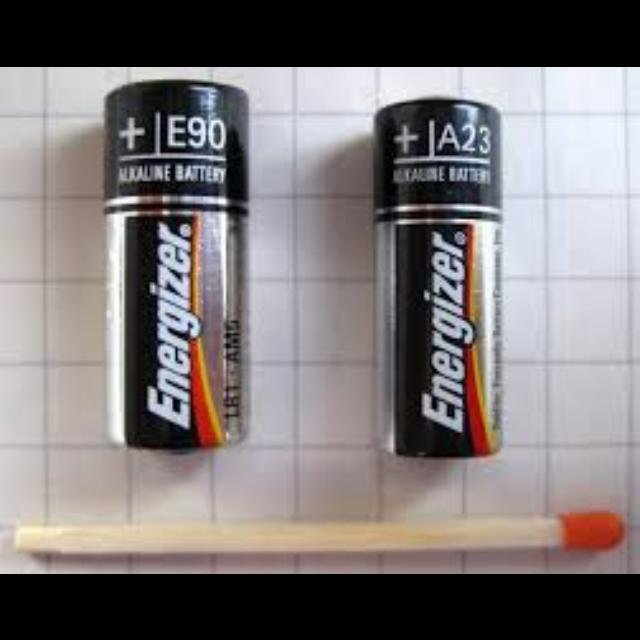Battery: (104, 81, 249, 449), (376, 99, 505, 457)
